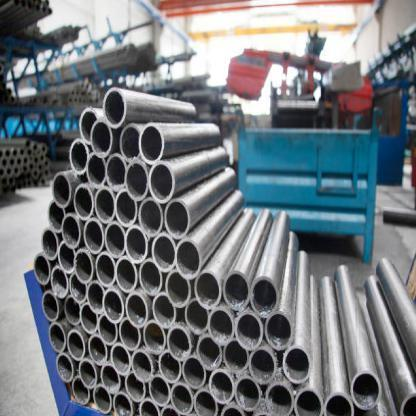pipe: (350, 371, 382, 410), (250, 276, 279, 318), (264, 310, 294, 350), (234, 311, 264, 350), (282, 344, 310, 384), (223, 270, 250, 311), (148, 162, 174, 204), (174, 238, 200, 280), (194, 270, 221, 309), (139, 123, 164, 165), (208, 307, 235, 345), (165, 198, 190, 239), (165, 269, 191, 308), (102, 88, 127, 128), (138, 197, 163, 237), (124, 160, 148, 201), (234, 376, 262, 411), (249, 348, 276, 384), (152, 232, 176, 272), (265, 382, 294, 415), (197, 334, 223, 370), (115, 188, 138, 228), (124, 226, 148, 264), (138, 258, 162, 296), (90, 119, 113, 158), (209, 369, 234, 404), (119, 124, 142, 162), (152, 292, 176, 328), (185, 298, 209, 334), (167, 325, 191, 361), (115, 256, 138, 293), (224, 339, 248, 374), (294, 387, 324, 415), (158, 350, 182, 384), (182, 355, 206, 389), (94, 186, 116, 223), (106, 154, 127, 192), (102, 288, 124, 324), (126, 292, 148, 328), (170, 382, 194, 415), (143, 320, 166, 354), (105, 221, 126, 258), (323, 392, 355, 416), (119, 317, 141, 351), (148, 375, 171, 407), (132, 349, 154, 382), (79, 106, 98, 144), (86, 152, 106, 188), (52, 172, 72, 208), (74, 184, 94, 220), (61, 213, 81, 249), (84, 218, 104, 254), (74, 248, 94, 284), (96, 252, 116, 288), (110, 342, 131, 376), (98, 312, 118, 346), (193, 388, 218, 415), (70, 138, 88, 175), (47, 199, 66, 233), (88, 334, 108, 366), (125, 372, 146, 402), (58, 240, 76, 274), (78, 359, 98, 389), (86, 281, 104, 314), (100, 364, 121, 392), (40, 228, 58, 260), (50, 266, 68, 298), (70, 272, 88, 304), (80, 302, 98, 334), (93, 384, 112, 414), (67, 330, 85, 361), (112, 390, 134, 415), (42, 290, 59, 322), (56, 352, 74, 382), (49, 322, 66, 353), (72, 376, 90, 405), (34, 253, 50, 285), (64, 295, 81, 325), (139, 398, 160, 416)
